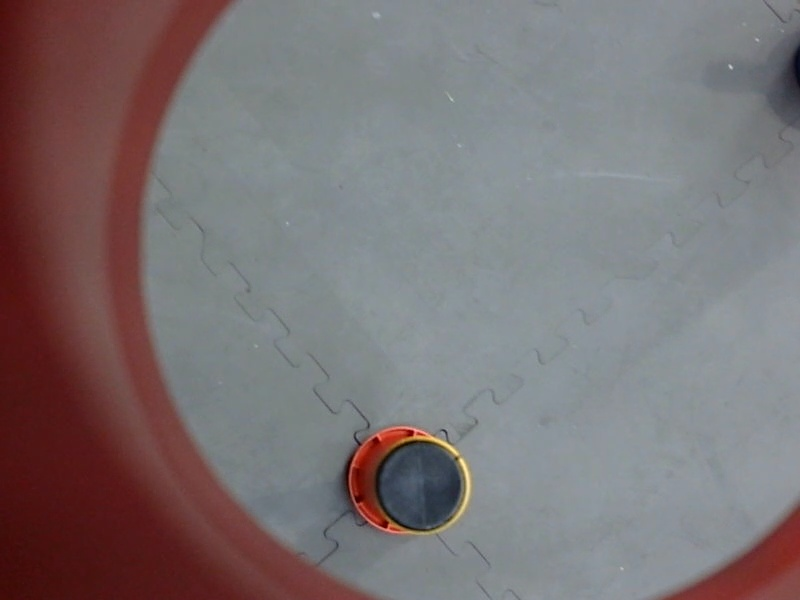tip: (371, 428, 478, 544)
